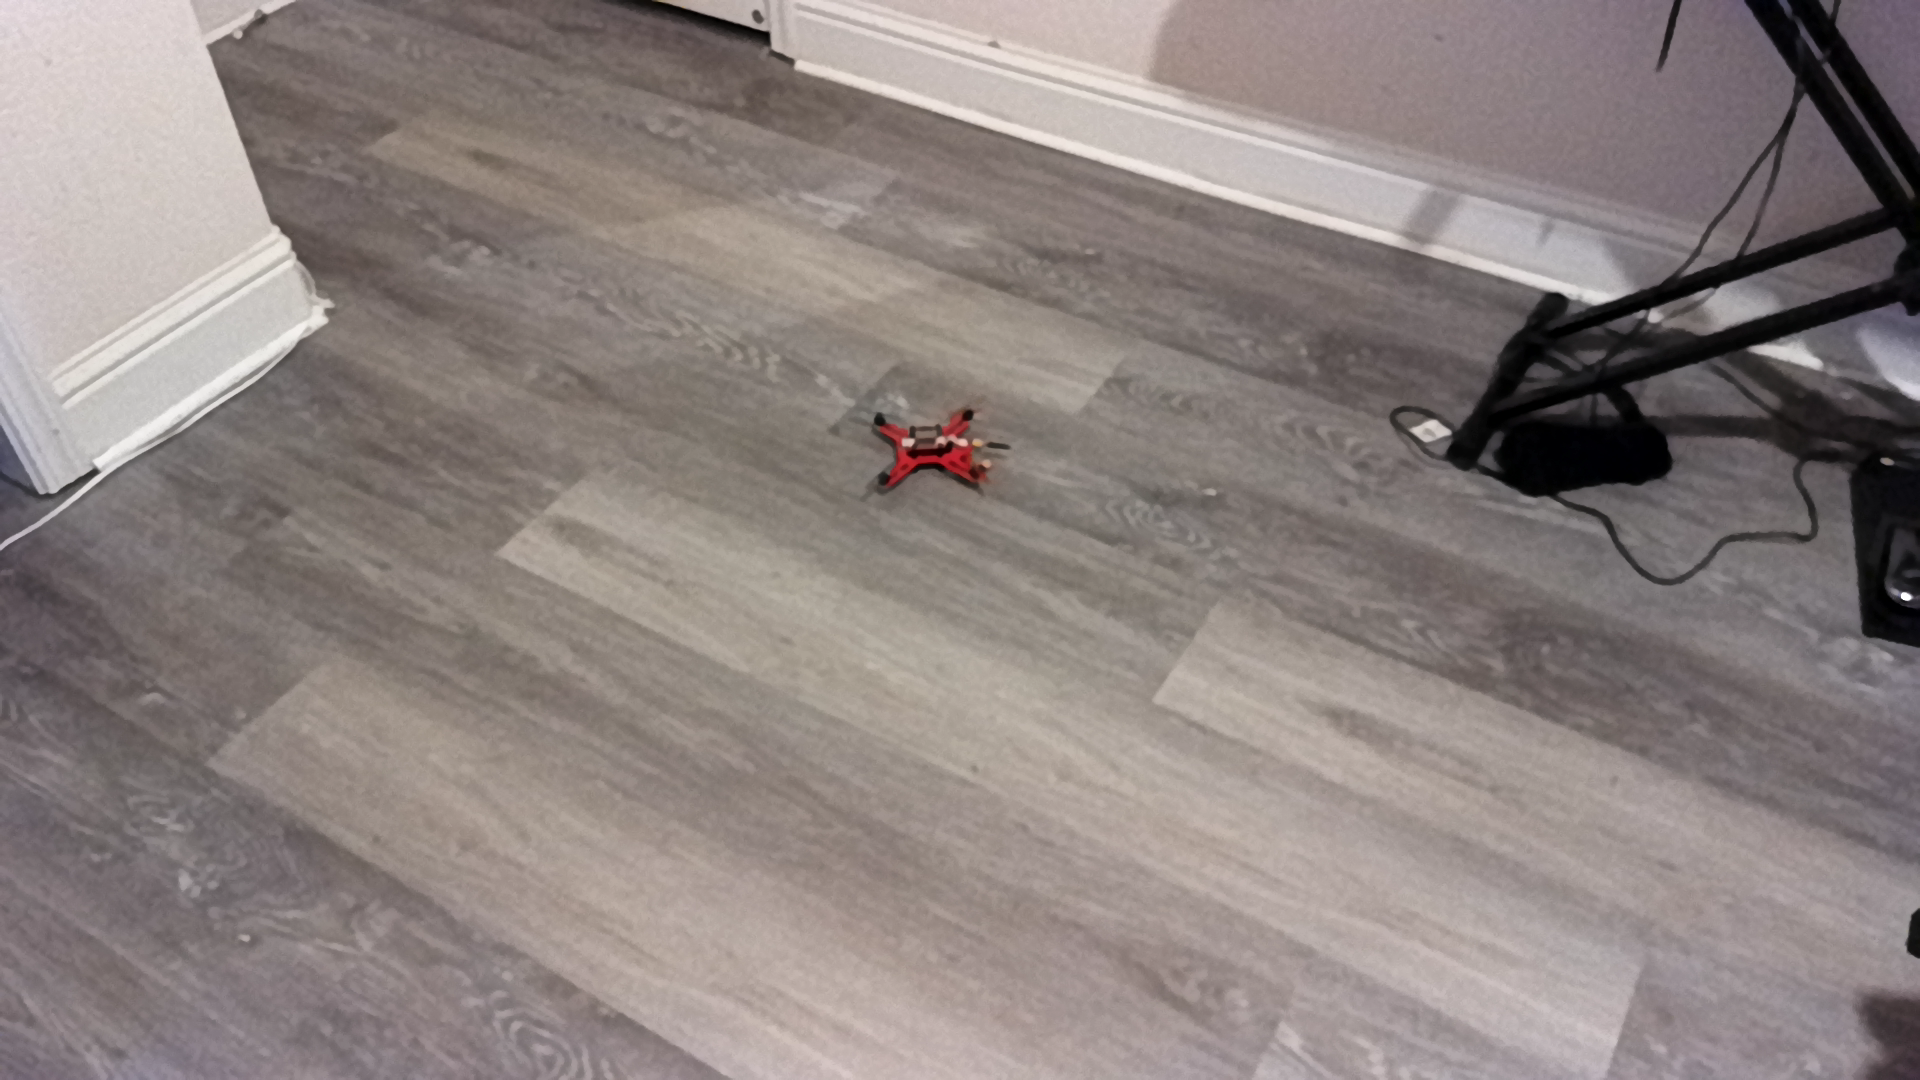drone: (837, 384, 1039, 512)
